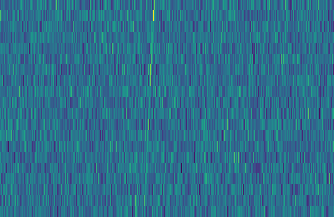signal: (139, 0, 159, 217)
